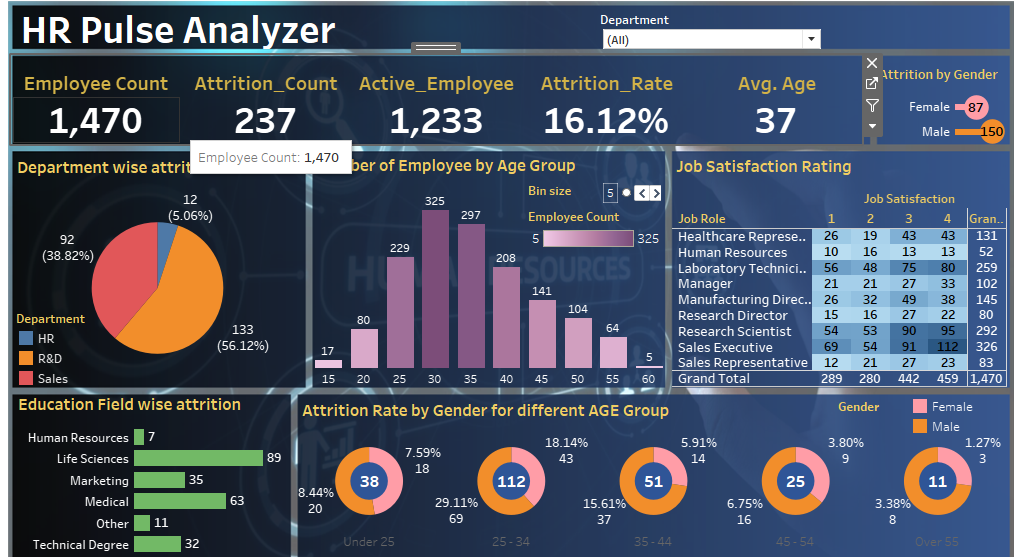

The page's visual inventory and layout, read from the dashboard file:
{"tool":"tableau","page":{"name":"Dashboard 1","canvas":[1160,590],"ordinal":0},"visuals":[{"type":"image","param":"C:/Users/Anurag Gupta/Downloads/HR background.pptx.png","box":[8,8,1144,574]},{"type":"text","box":[87,17,497,43]},{"type":"filter","title":"Department wise attrition","param":"[federated.13szasu1wgklto18vk3ib1gfjhes].[none:Department:nk]","box":[669,22,224,39]},{"type":"worksheet","title":"kpi","mark":"Automatic","box":[80,66,851,89]},{"type":"worksheet","title":"Attrition by Gender","mark":"Automatic","rows":["Gender"],"cols":["Calculation_792070653153046528","Calculation_792070653153046528"],"box":[944,72,133,83]},{"type":"worksheet","title":"Number of Employee by Age Group","mark":"Automatic","rows":["Employee Count"],"cols":["Age (bin)"],"box":[380,161,356,238]},{"type":"worksheet","title":"Job Satisfaction Rating","mark":"Square","rows":["Job Role"],"cols":["Job Satisfaction"],"box":[741,162,335,236]},{"type":"worksheet","title":"Department wise attrition","mark":"Pie","box":[82,163,289,235]},{"type":"parameter","param":"[Parameters].[Parameter 1]","box":[597,191,136,30]},{"type":"legend","title":"Number of Employee by Age Group","param":"[federated.13szasu1wgklto18vk3ib1gfjhes].[sum:Employee Count:qk]","box":[597,219,136,41]},{"type":"legend","title":"Department wise attrition","param":"[federated.13szasu1wgklto18vk3ib1gfjhes].[none:Department:nk]","box":[85,321,76,79]},{"type":"worksheet","title":"Education Field wise attrition","mark":"Automatic","rows":["Education Field"],"cols":["Calculation_792070653153046528"],"box":[83,400,280,166]},{"type":"worksheet","title":"Attrition Rate by Gender for different AGE Group ","mark":"Pie","rows":["Calculation_832321508395245569","Calculation_832321508395245569"],"cols":["CF_age band"],"box":[367,406,712,167]},{"type":"legend","title":"Attrition by Gender","param":"[federated.13szasu1wgklto18vk3ib1gfjhes].[none:Gender:nk]","box":[907,407,202,37]}]}

Visuals, with their boxes on the page's 1160x590 design canvas (x1, y1, x2, y2). These are canvas units, not pixel positions in the 1020x558 screenshot, which may show the page scaled, cropped or inside an application window:
image: box(8, 8, 1152, 582)
text: box(87, 17, 584, 60)
"Department wise attrition" filter: box(669, 22, 893, 61)
"kpi" worksheet: box(80, 66, 931, 155)
"Attrition by Gender" worksheet: box(944, 72, 1077, 155)
"Number of Employee by Age Group" worksheet: box(380, 161, 736, 399)
"Job Satisfaction Rating" worksheet (Square marks): box(741, 162, 1076, 398)
"Department wise attrition" worksheet (Pie marks): box(82, 163, 371, 398)
parameter: box(597, 191, 733, 221)
"Number of Employee by Age Group" legend: box(597, 219, 733, 260)
"Department wise attrition" legend: box(85, 321, 161, 400)
"Education Field wise attrition" worksheet: box(83, 400, 363, 566)
"Attrition Rate by Gender for different AGE Group " worksheet (Pie marks): box(367, 406, 1079, 573)
"Attrition by Gender" legend: box(907, 407, 1109, 444)
